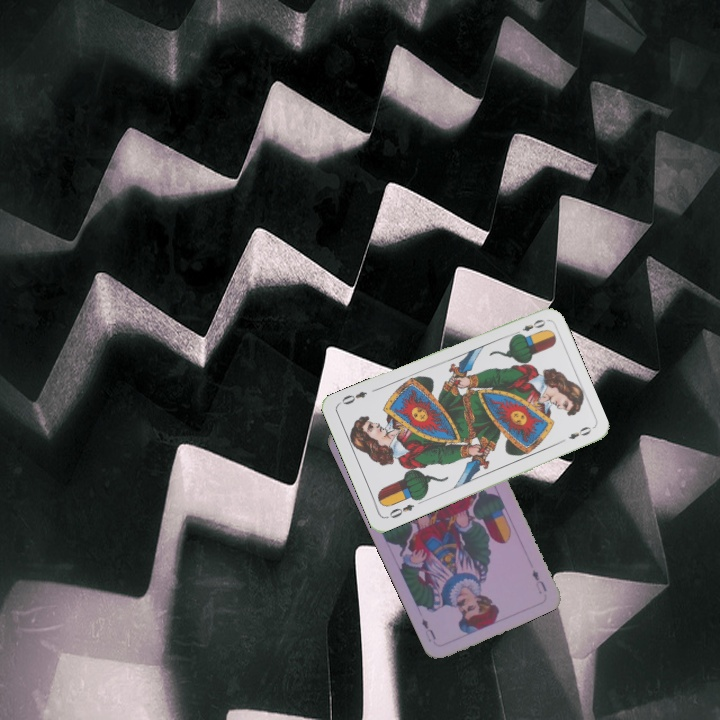EO: (510, 315, 548, 338), (385, 500, 417, 521)
EU: (528, 566, 549, 597)
